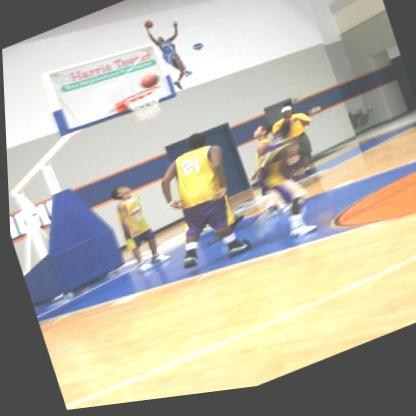basketball: (137, 73, 160, 95)
rim: (121, 86, 164, 109)
